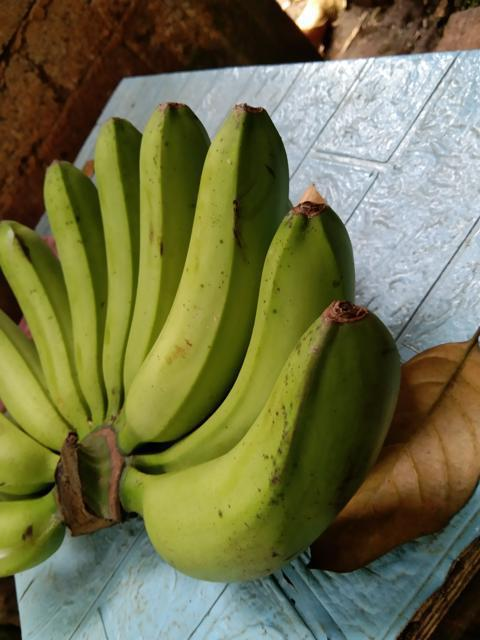freshunripe: (137, 296, 414, 588), (122, 93, 299, 466), (151, 196, 355, 481), (108, 81, 222, 420), (40, 148, 124, 422), (84, 108, 152, 408)
